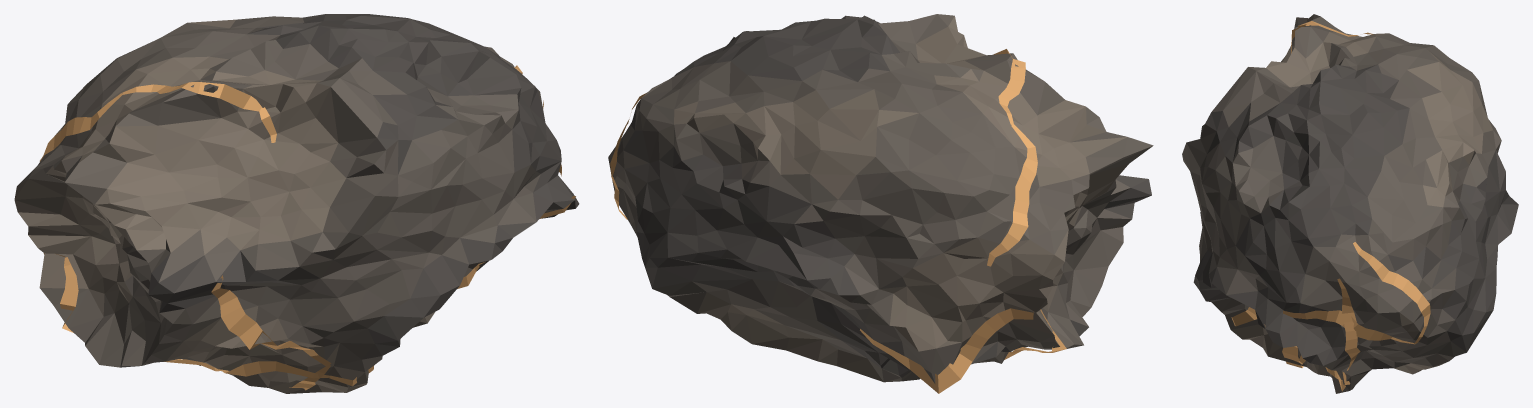
Rendered from asteroid_a.glb.
3 views of the same model, side by side, from view 1: azimuth 30°, elevation 25°; view 2: azimuth 150°, elevation 25°; view 3: azimuth 270°, elevation 25° (orthographic). The views are drawn at different scales.
Visible parts, largest first — view 1: Asteroid; view 2: Asteroid; view 3: Asteroid.
Boxes of the visible parts, x1,y1,x2,y2 form: Asteroid: (14,14,579,393); Asteroid: (608,14,1153,393); Asteroid: (1182,14,1518,393).
Size of the model in its own units: 75.64 by 48.42 by 49.99.
